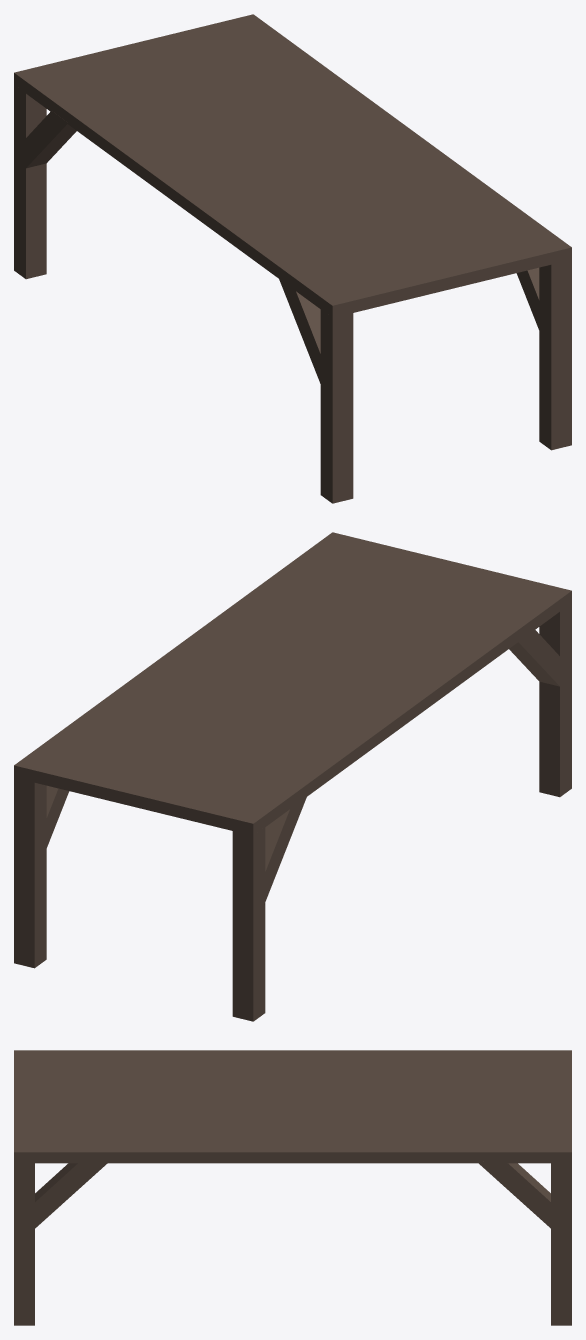
File: GrandeTable_12.fbx
3 views of the same model, one above another, from view 1: azimuth 30°, elevation 25°; view 2: azimuth 150°, elevation 25°; view 3: azimuth 270°, elevation 25° (orthographic). The views are drawn at different scales.
Visible parts, largest first — view 1: pCube54, pCube52, pCube53, pCube50, pCube60, pCube56, pCube55; view 2: pCube54, pCube50, pCube51, pCube52, pCube60, pCube56, pCube59; view 3: pCube54, pCube51, pCube53, pCube55, pCube59.
Part boxes in pixels (box(x1,y1,x2,y2)): pCube54: box(14, 14, 571, 317); pCube52: box(320, 309, 353, 503); pCube53: box(539, 259, 571, 450); pCube50: box(14, 84, 46, 279); pCube60: box(24, 110, 76, 169); pCube56: box(279, 279, 320, 383); pCube55: box(516, 267, 540, 332); pCube54: box(14, 532, 571, 835); pCube50: box(232, 827, 265, 1021); pCube51: box(14, 777, 46, 968); pCube52: box(539, 602, 571, 797); pCube60: box(264, 794, 307, 904); pCube56: box(509, 630, 559, 686); pCube59: box(45, 785, 69, 851); pCube54: box(14, 1050, 571, 1163); pCube51: box(551, 1162, 571, 1325); pCube53: box(14, 1162, 34, 1325); pCube55: box(33, 1161, 109, 1229); pCube59: box(477, 1161, 550, 1228).
Bounding box in the file's own units: 50.24 × 39.67 × 116.
